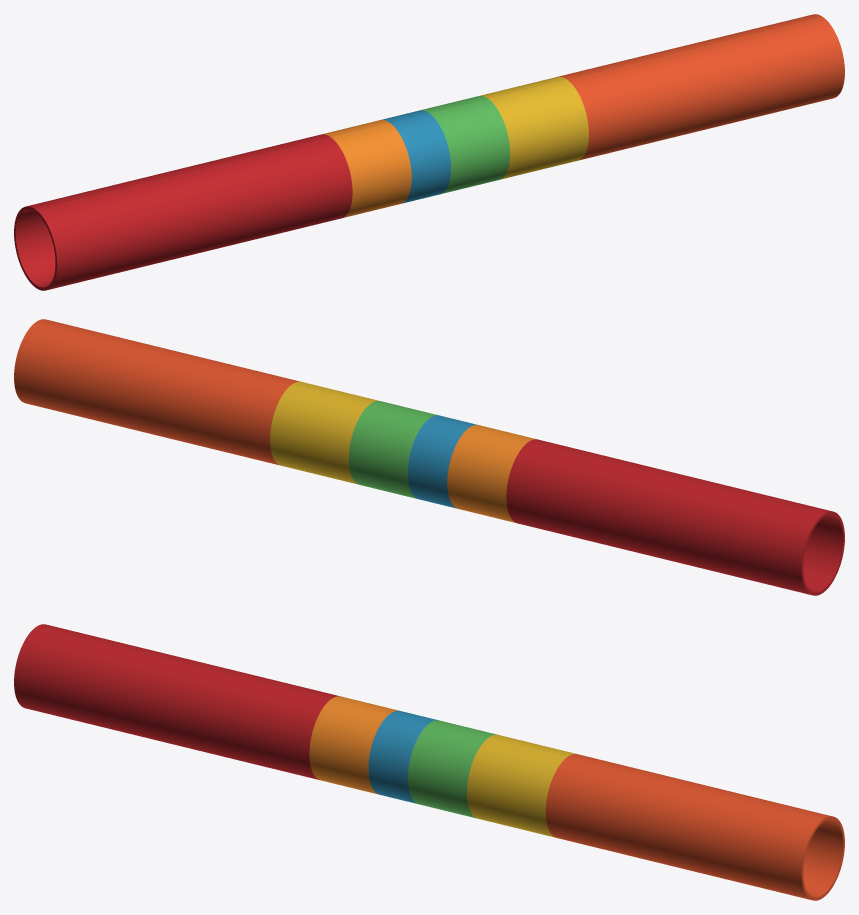
File: venturi_tube_pressure.glb
3 views of the same model, one above another, from view 1: azimuth 30°, elevation 25°; view 2: azimuth 150°, elevation 25°; view 3: azimuth 330°, elevation 25° (orthographic).
Parts seen in each view (by area): view 1: prof__front, prof__back; view 2: prof__back, prof__front; view 3: prof__front, prof__back.
Boxes of the visible parts, left/top/right/bottom form: prof__front: left=35, top=17, right=844, bottom=290; prof__back: left=14, top=14, right=822, bottom=287; prof__back: left=14, top=322, right=823, bottom=595; prof__front: left=36, top=319, right=844, bottom=592; prof__front: left=14, top=627, right=823, bottom=900; prof__back: left=36, top=624, right=844, bottom=897.
Bounding box in the file's own units: 1.6 × 0.152 × 0.152.
